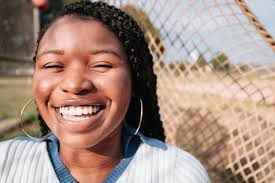no-mask: (29, 13, 142, 151)
